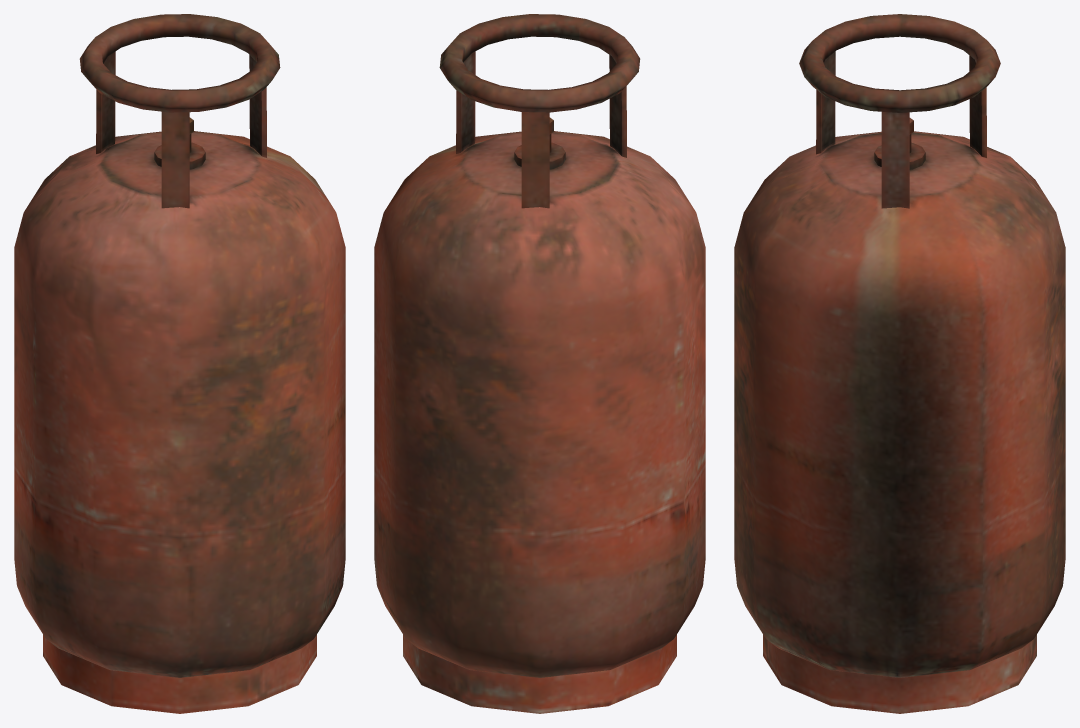
The model's file is LPGCylinder.FBX.
The picture shows the model from 3 angles, left to right: view 1: azimuth 30°, elevation 25°; view 2: azimuth 150°, elevation 25°; view 3: azimuth 270°, elevation 25°; orthographic projection.
Visible parts, largest first — view 1: LPGCylinder; view 2: LPGCylinder; view 3: LPGCylinder.
Boxes of the visible parts, left/top/right/bottom form: LPGCylinder: left=14, top=14, right=345, bottom=713; LPGCylinder: left=374, top=14, right=705, bottom=713; LPGCylinder: left=734, top=14, right=1065, bottom=713.
Size of the model in its own units: 42.38 by 85.06 by 42.38.
